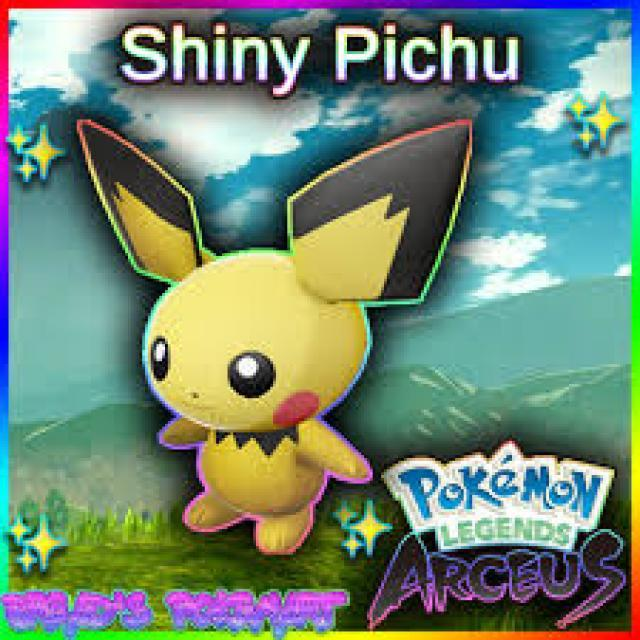pichu: (59, 110, 444, 562)
